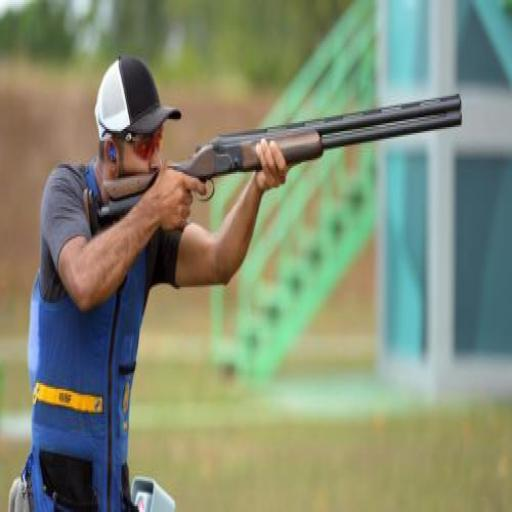shooting: (15, 53, 292, 510)
